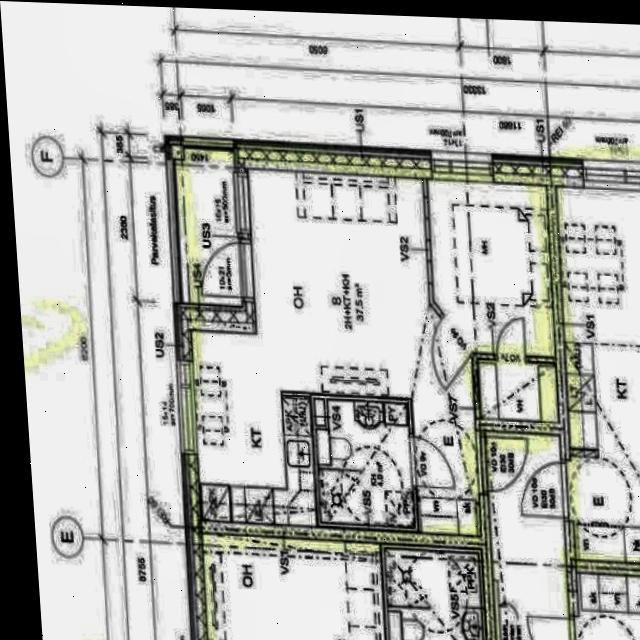room: (428, 174, 555, 362), (485, 427, 570, 640), (313, 393, 415, 534), (176, 152, 240, 306), (384, 549, 484, 640), (474, 359, 563, 422), (576, 572, 640, 640)
